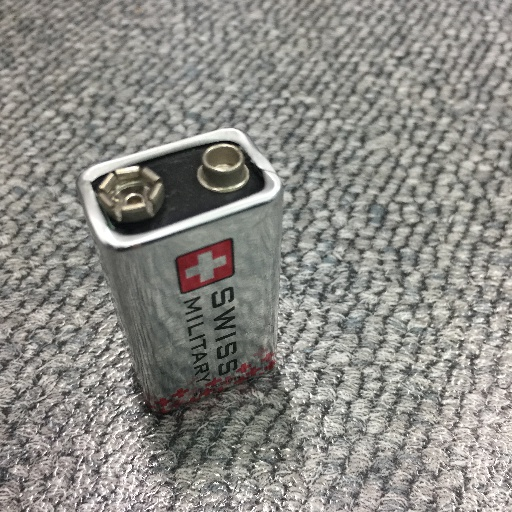Battery_3: (55, 113, 309, 415)
